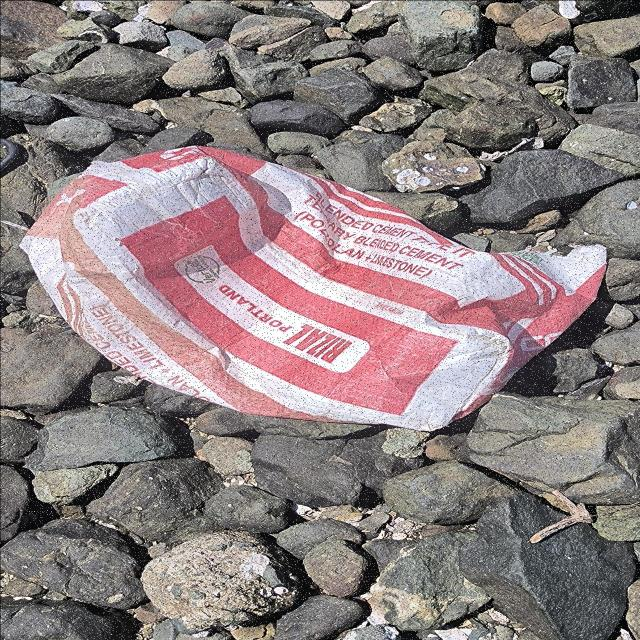plastic_waste: (19, 147, 607, 433)
